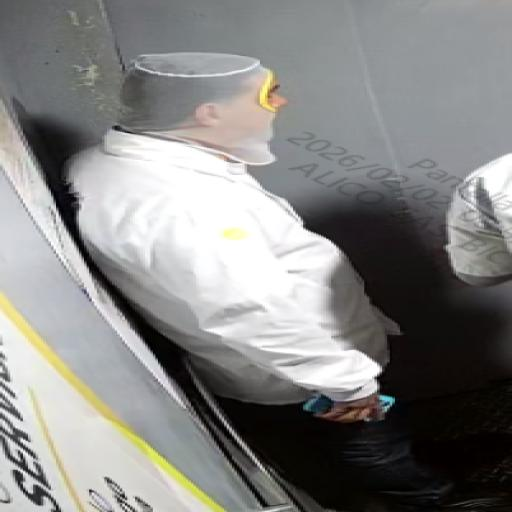persona: (45, 30, 487, 512)
